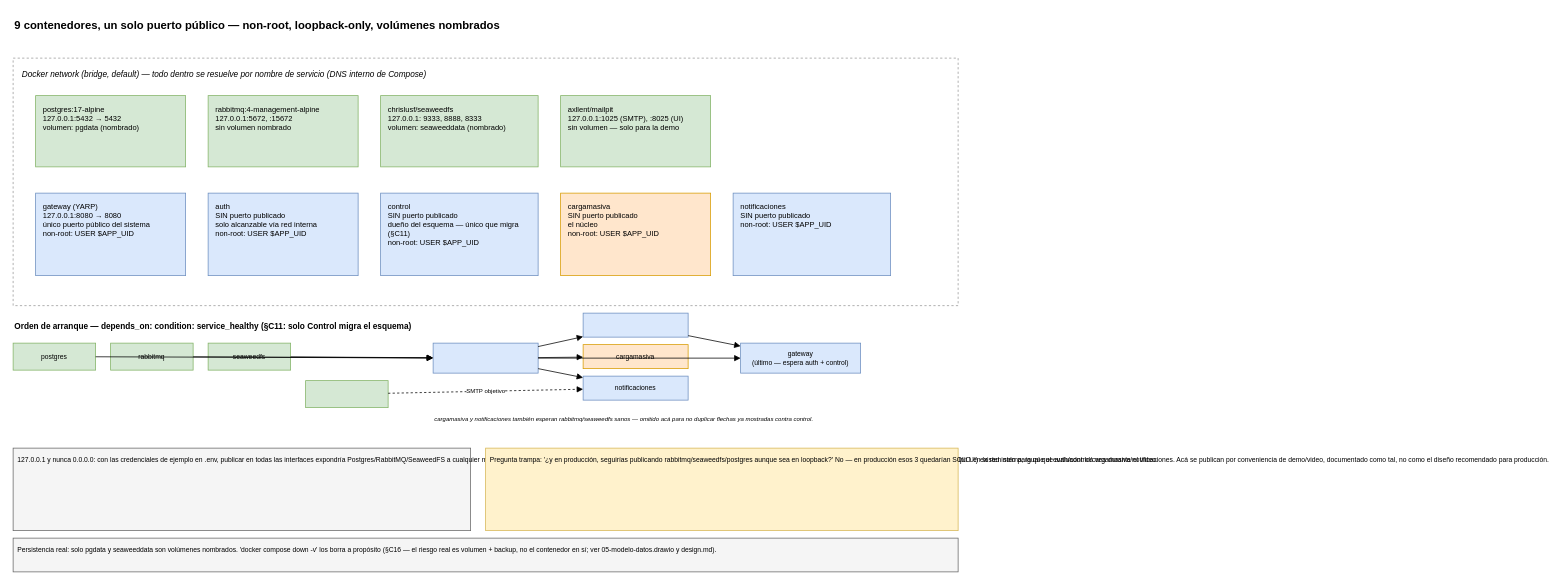
This 1562x585 diagram has some shape labels left out. Each missing label, with the centre of its shape:
"auth" belongs at pixel 635 324.
"control (migra el esquema)" belongs at pixel 485 357.
"mailpit" belongs at pixel 346 394.
